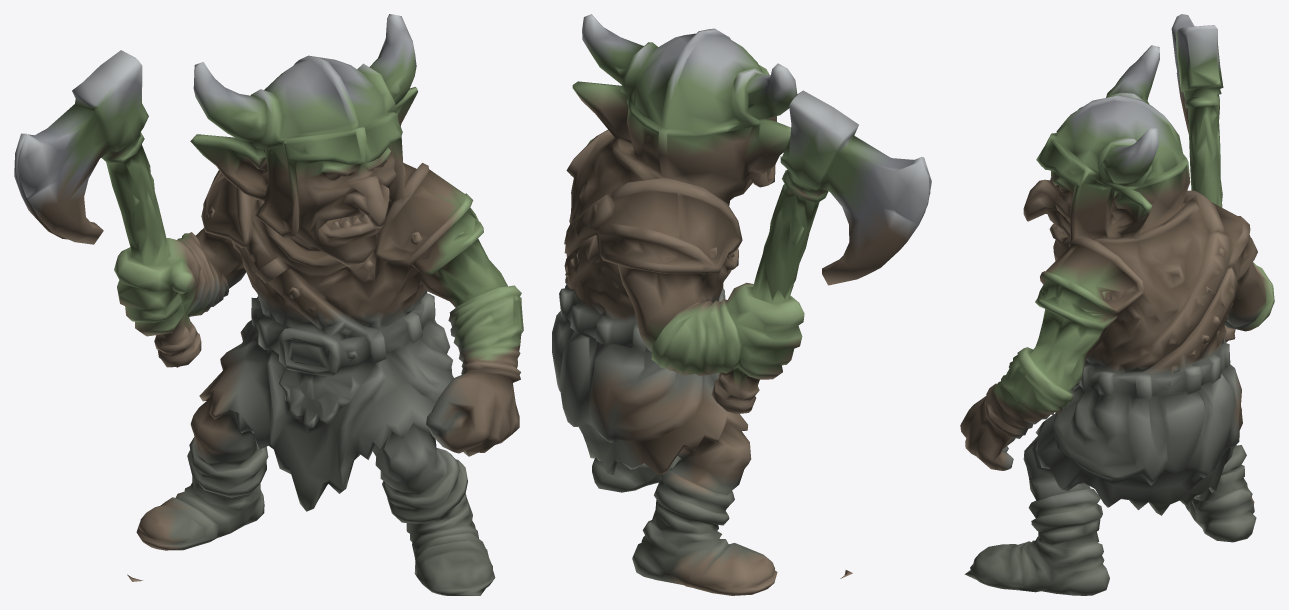
Rendered from axe.glb.
3 views of the same model, side by side, from view 1: azimuth 30°, elevation 25°; view 2: azimuth 150°, elevation 25°; view 3: azimuth 270°, elevation 25° (orthographic). The views are drawn at different scales.
Parts seen in each view (by area): view 1: world; view 2: world; view 3: world.
Boxes of the visible parts, x1,y1,x2,y2 form: world: (14,14,523,595); world: (552,14,931,595); world: (960,14,1274,595).
Size of the model in its own units: 1.38 by 1.55 by 0.971.
